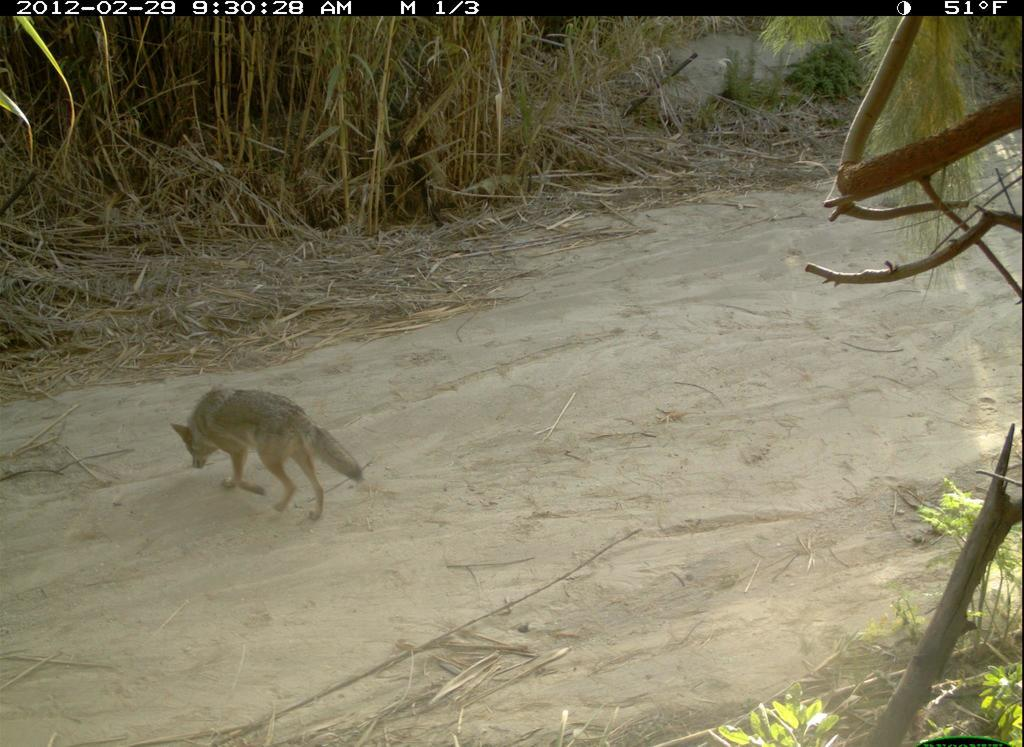coyote: (131, 376, 347, 550)
